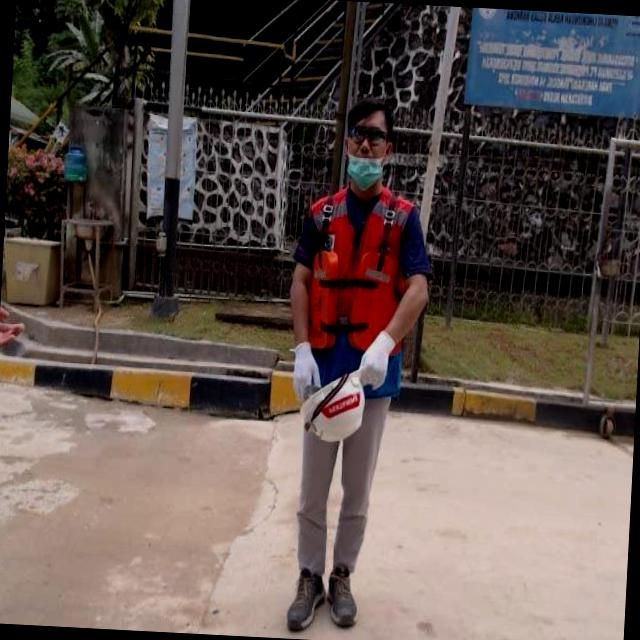boots: (282, 570, 326, 636), (323, 564, 358, 630)
gloves: (354, 332, 400, 393), (284, 340, 322, 394)
helmet: (300, 362, 376, 449)
no-helmet: (343, 96, 397, 189)
vest: (285, 184, 421, 400)
